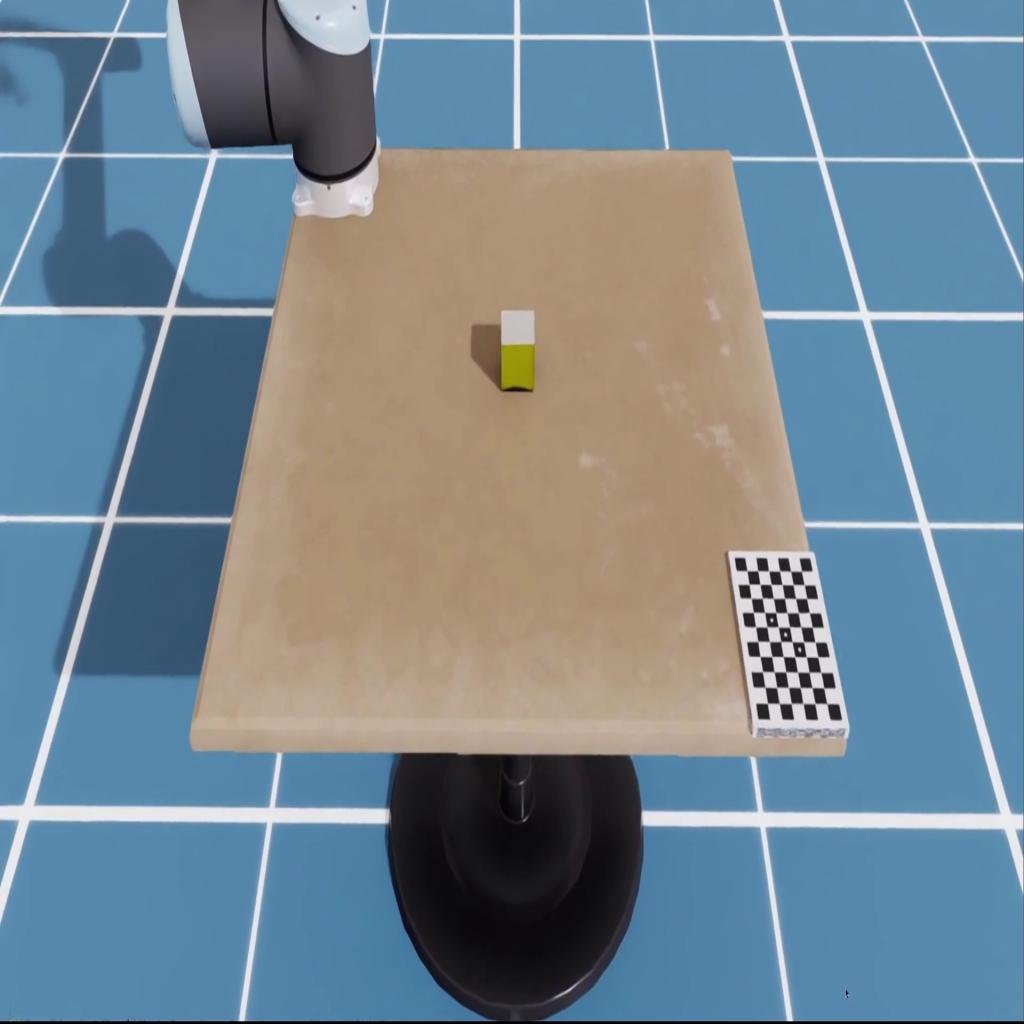Cube: (500, 308, 535, 392)
QR: (725, 547, 849, 744)
Robot: (168, 0, 381, 217)
Table: (189, 142, 849, 760)
